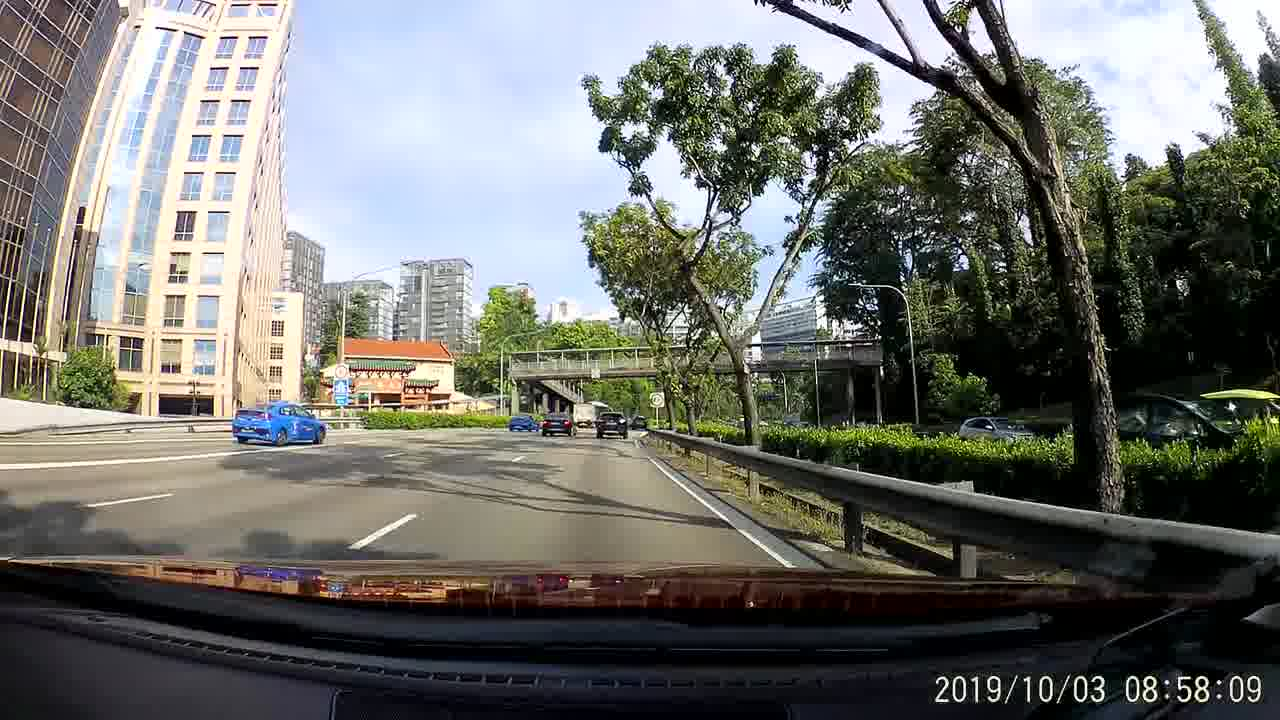car: (1089, 390, 1246, 454), (232, 398, 327, 448), (956, 415, 1038, 444), (596, 411, 629, 441), (542, 410, 576, 437), (508, 415, 542, 431), (633, 415, 649, 428)
